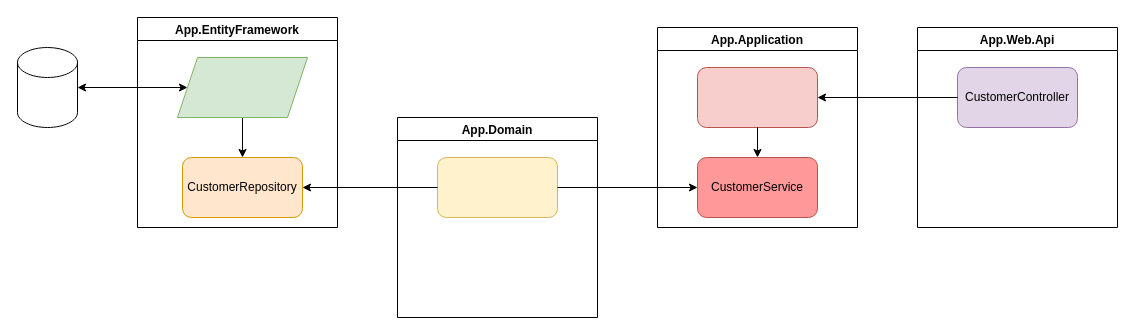
The diagram is 1135 pixels wide and 335 high, and some of its shapes have lost their labels. Each missing label, with the centre of its shape:
AppDbContext: the point at 242,87
ICustomerRepository: the point at 497,187
ICustomerService: the point at 757,97
